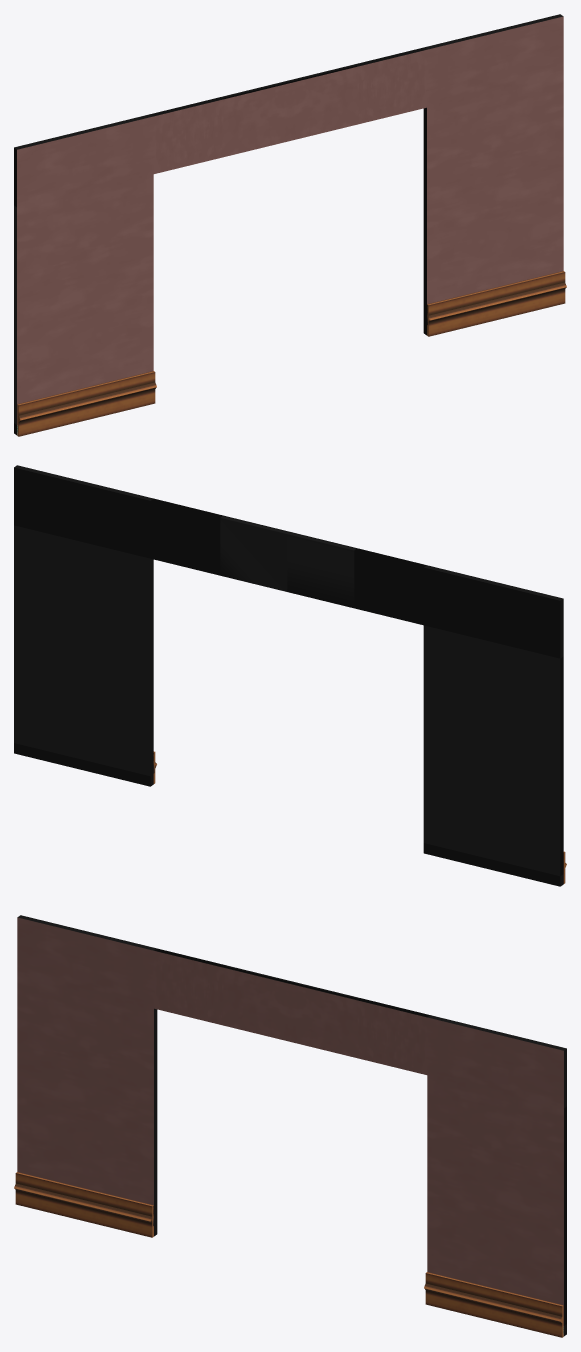
The model's file is Doorway_DW_C.FBX.
3 renders of one model, top to bottom at view 1: azimuth 30°, elevation 25°; view 2: azimuth 150°, elevation 25°; view 3: azimuth 330°, elevation 25°, orthographic.
Visible parts, largest first — view 1: Wall_Doorway_10m; view 2: Wall_Doorway_10m; view 3: Wall_Doorway_10m.
Boxes of the visible parts, bbox=[...] form: Wall_Doorway_10m: bbox=[14, 14, 566, 436]; Wall_Doorway_10m: bbox=[14, 465, 566, 886]; Wall_Doorway_10m: bbox=[14, 915, 566, 1337].
Size of the model in its own units: 1000 by 500 by 20.82.
